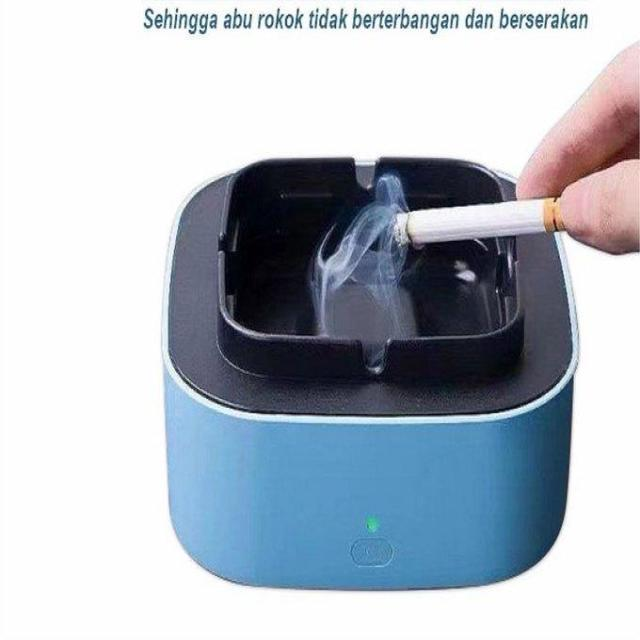rokok: (390, 191, 566, 253)
